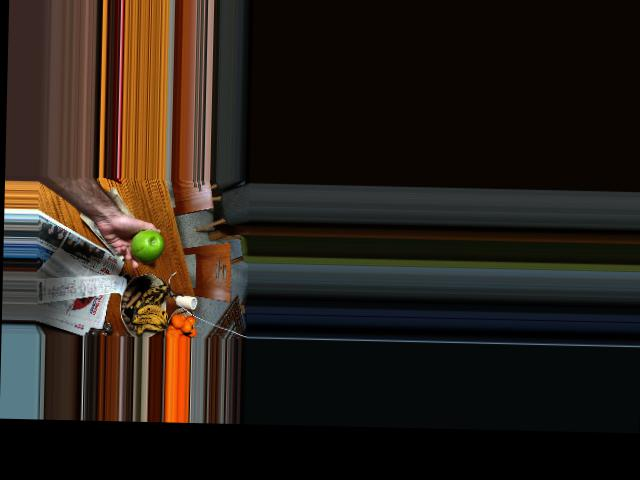apple: (129, 228, 166, 262)
